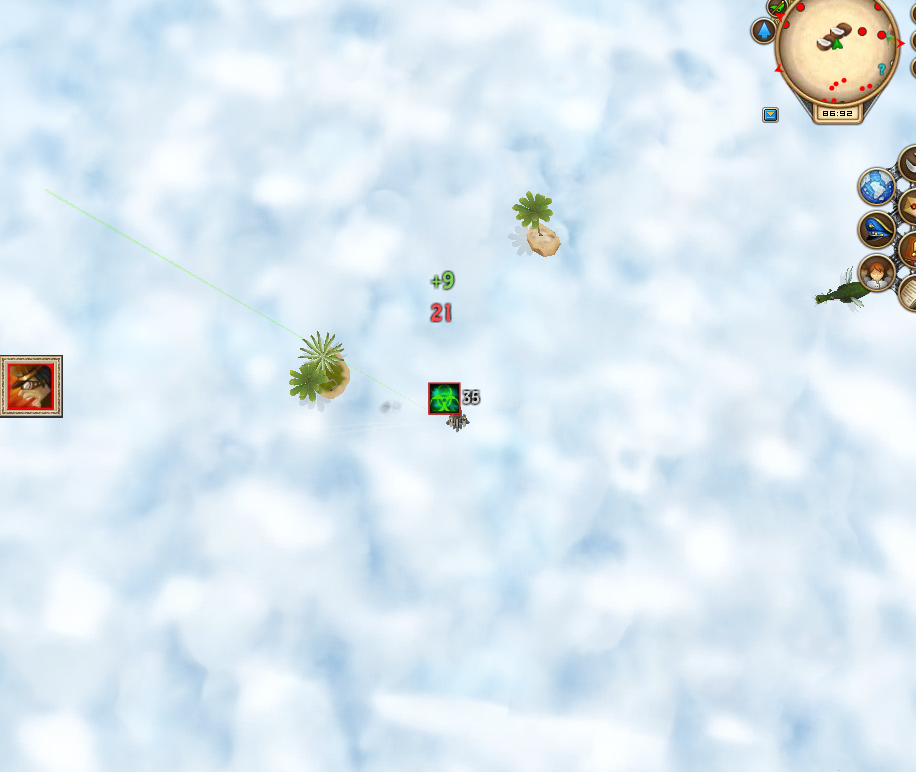palm: (282, 333, 352, 405), (506, 185, 568, 264)
